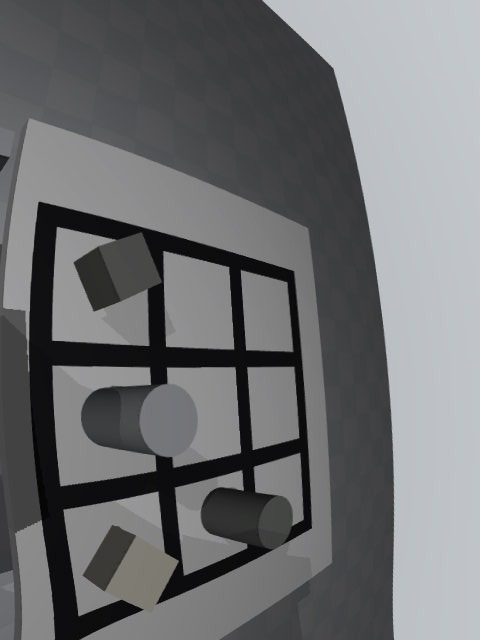can: (81, 383, 198, 458)
cube: (74, 233, 162, 312)
cylinder: (200, 487, 293, 550)
foam: (82, 525, 179, 613)
